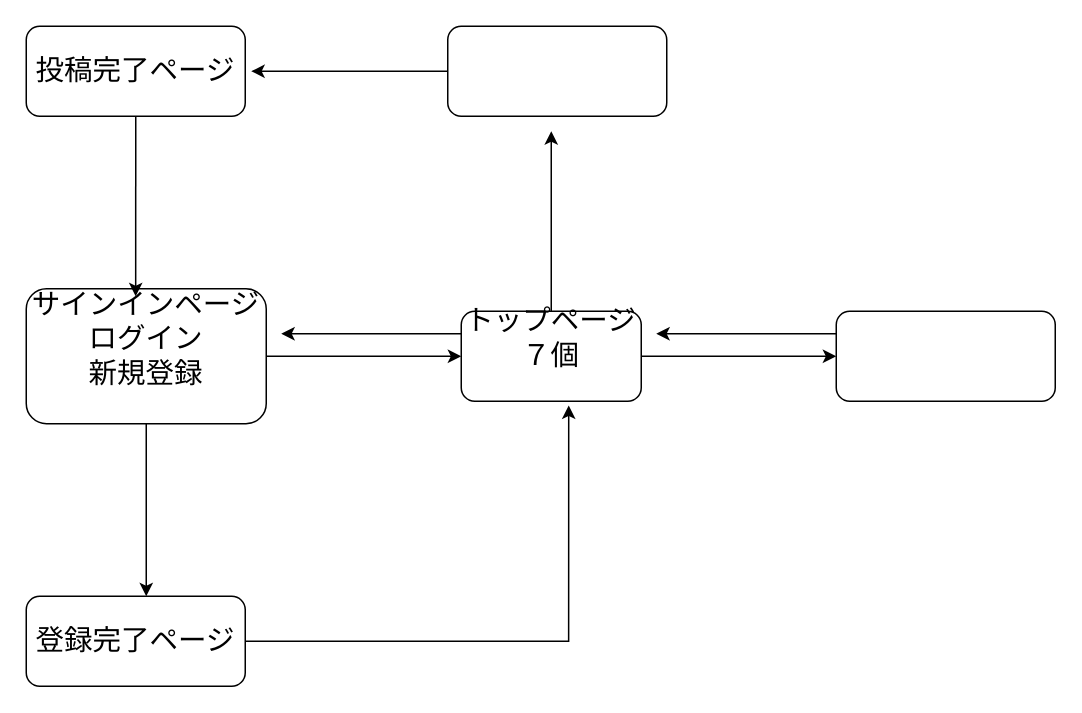
Image size: 1082x713. Some labels were removed from this diagram. Each missing label, with the centre of its shape:
マイページ: pixel 945 355
新規投稿ページ: pixel 556 70
